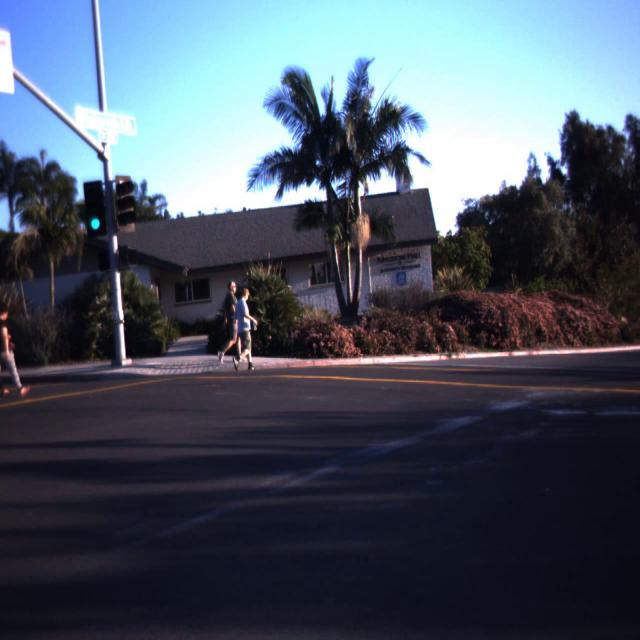yesil: (83, 180, 107, 236)
